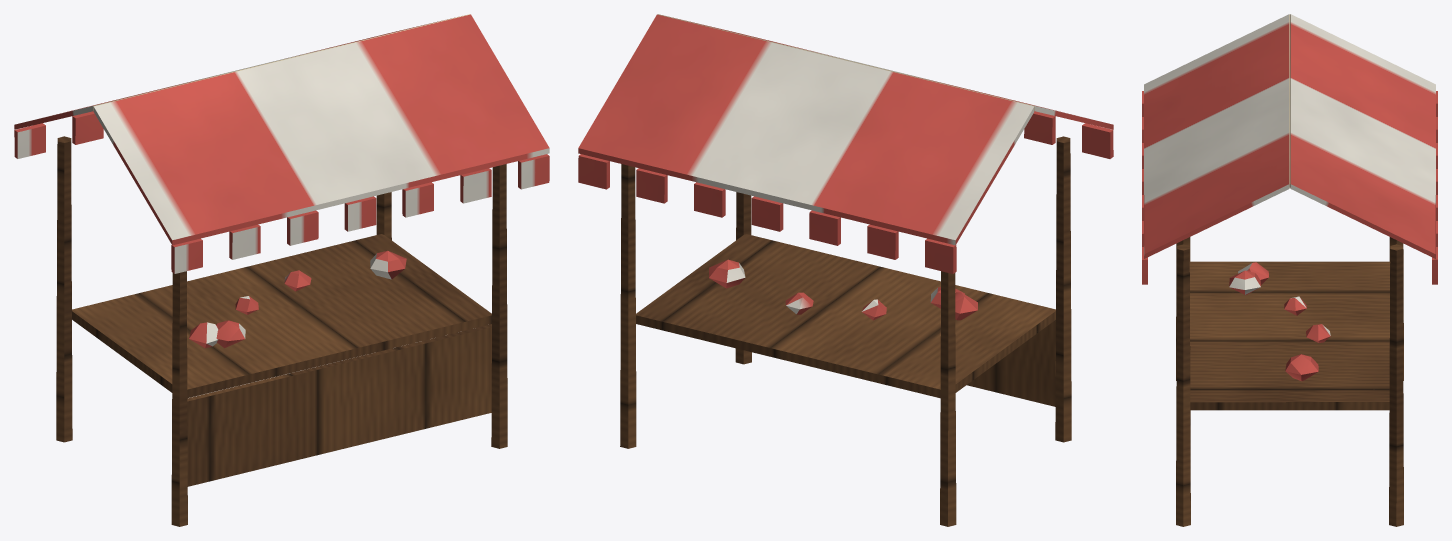
The model's file is Env_Market_Stall_LOD2.fbx.
The picture shows the model from 3 angles, left to right: view 1: azimuth 30°, elevation 25°; view 2: azimuth 150°, elevation 25°; view 3: azimuth 270°, elevation 25°; orthographic projection. The views are drawn at different scales.
Parts seen in each view (by area): view 1: Env_Market_Stall_LOD2; view 2: Env_Market_Stall_LOD2; view 3: Env_Market_Stall_LOD2.
Part boxes in pixels (<box>): Env_Market_Stall_LOD2: <box>14,14,549,526</box>; Env_Market_Stall_LOD2: <box>578,14,1113,526</box>; Env_Market_Stall_LOD2: <box>1142,14,1437,526</box>.
Size of the model in its own units: 283 by 208 by 274.
